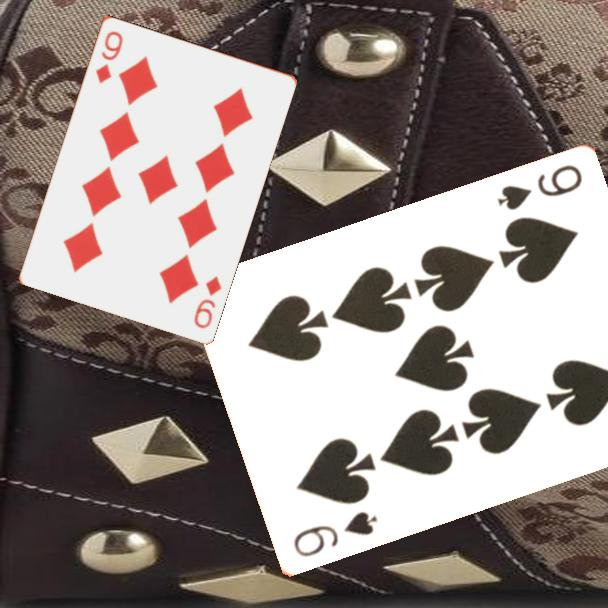d09: (92, 27, 126, 86), (190, 272, 224, 331)
s09: (493, 161, 585, 214), (289, 508, 380, 561)
